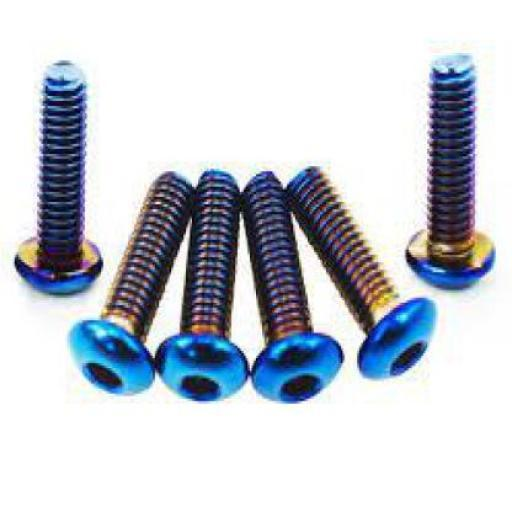Bolt: (283, 165, 438, 382), (67, 171, 195, 397), (240, 169, 344, 404), (154, 169, 249, 403), (404, 52, 496, 291), (14, 58, 104, 296)
